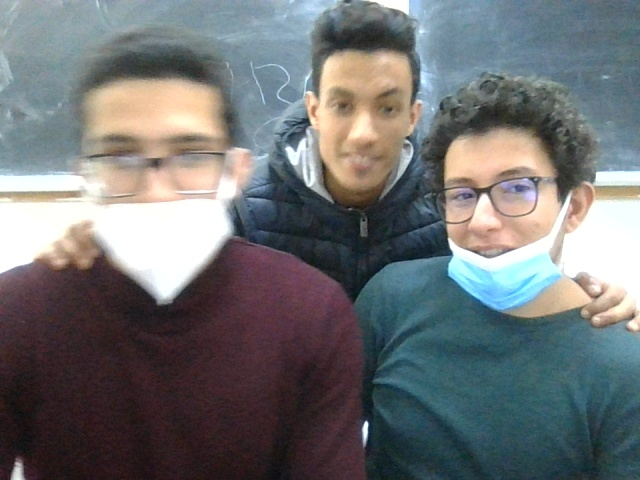mask_weared_incorrect: (426, 87, 587, 304)
